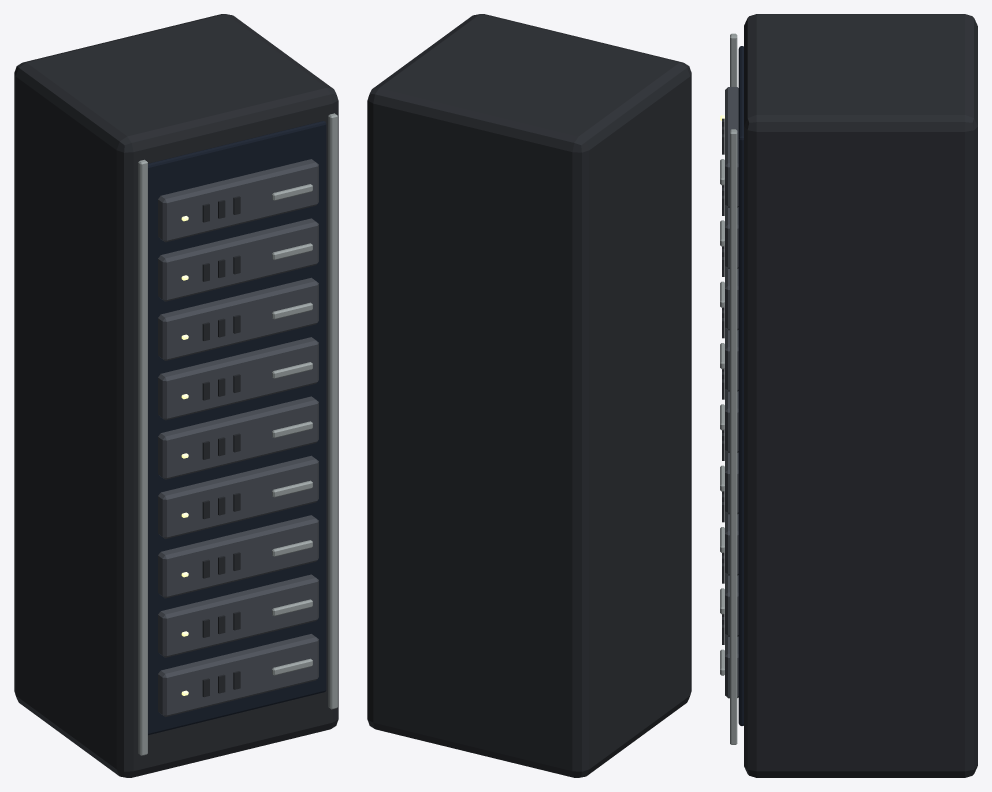
The model's file is prop_server_rack.glb.
The picture shows the model from 3 angles, left to right: view 1: azimuth 30°, elevation 25°; view 2: azimuth 150°, elevation 25°; view 3: azimuth 270°, elevation 25°; orthographic projection. The views are drawn at different scales.
Parts seen in each view (by area): view 1: prop_server_rack_mesh; view 2: prop_server_rack_mesh; view 3: prop_server_rack_mesh.
Part boxes in pixels (<box>): prop_server_rack_mesh: <box>14,14,338,777</box>; prop_server_rack_mesh: <box>367,14,691,777</box>; prop_server_rack_mesh: <box>720,14,977,777</box>.
Size of the model in its own units: 0.72 by 2 by 0.705.
